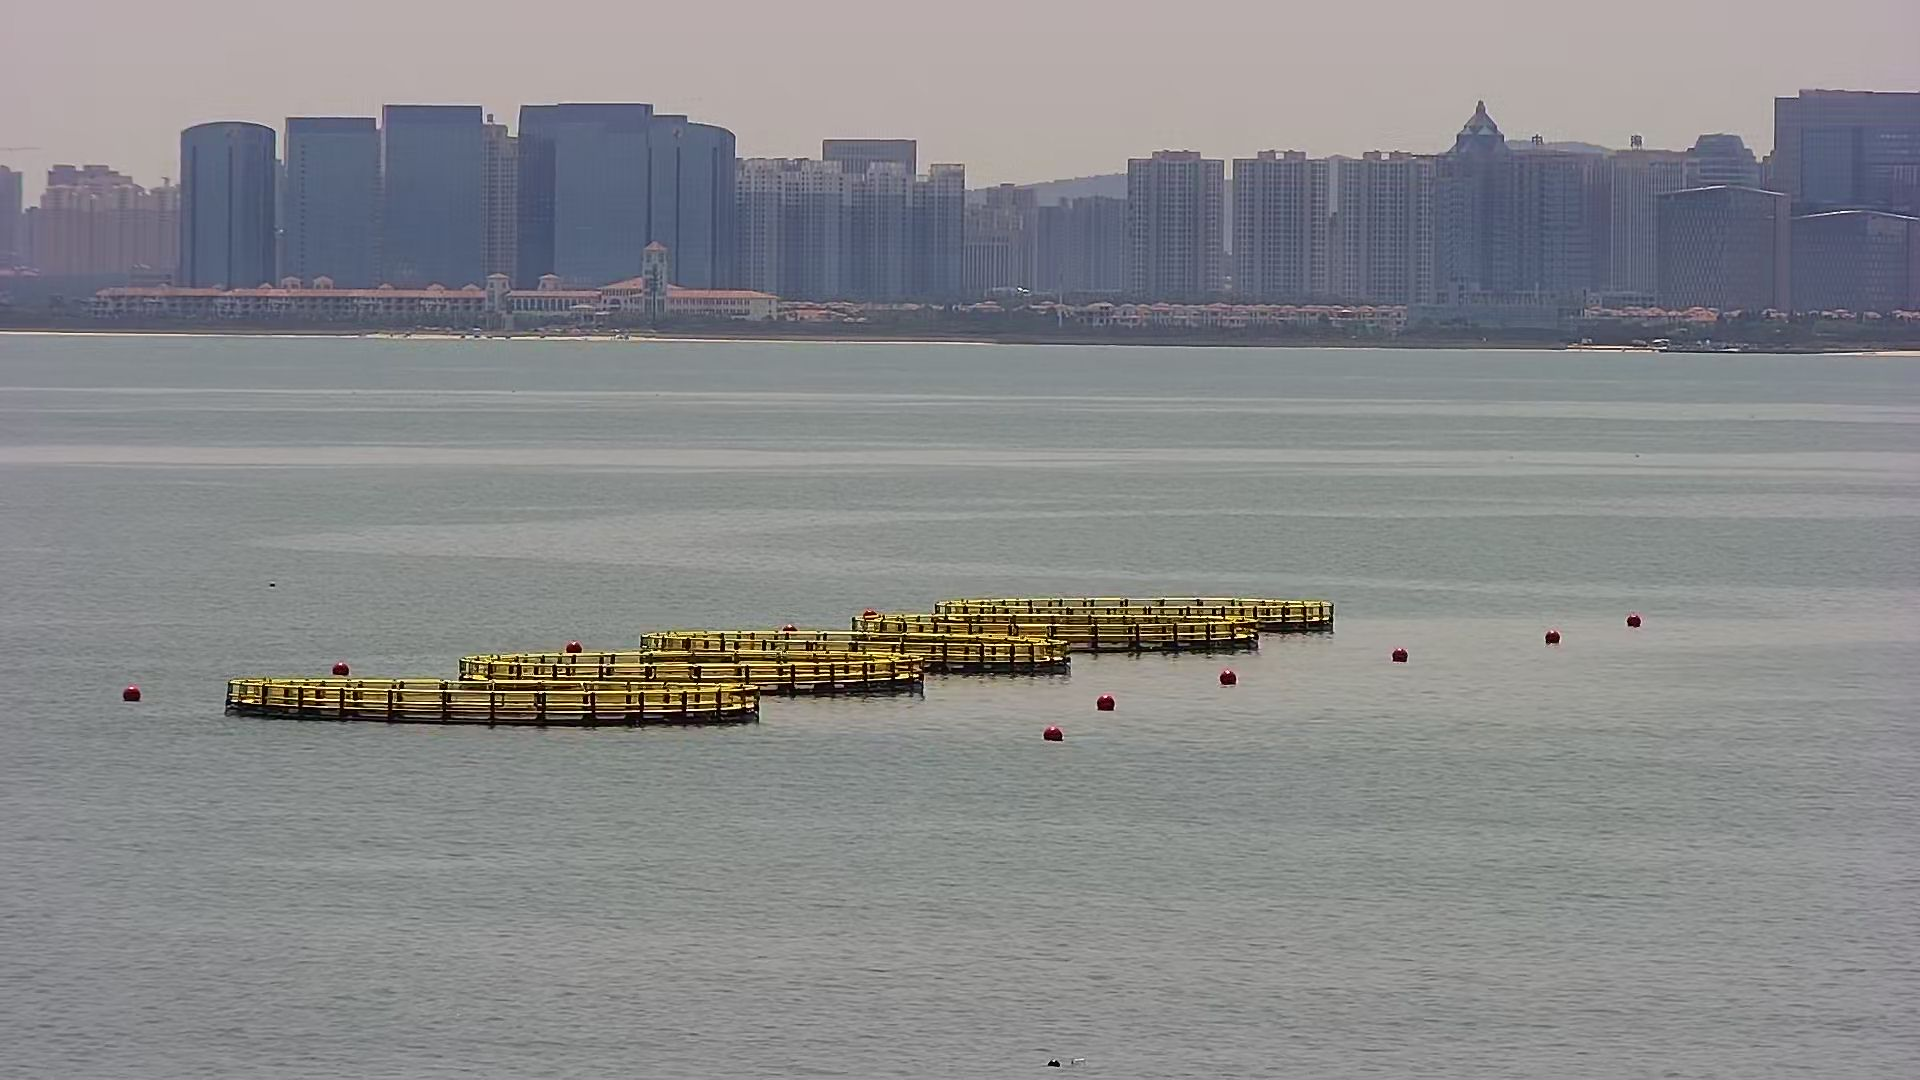ball: (1611, 600, 1654, 640), (1087, 682, 1122, 720), (111, 673, 145, 712), (1040, 715, 1075, 750), (1536, 616, 1568, 654), (1385, 634, 1418, 669), (1207, 665, 1244, 694)
platform: (210, 531, 1360, 738)
